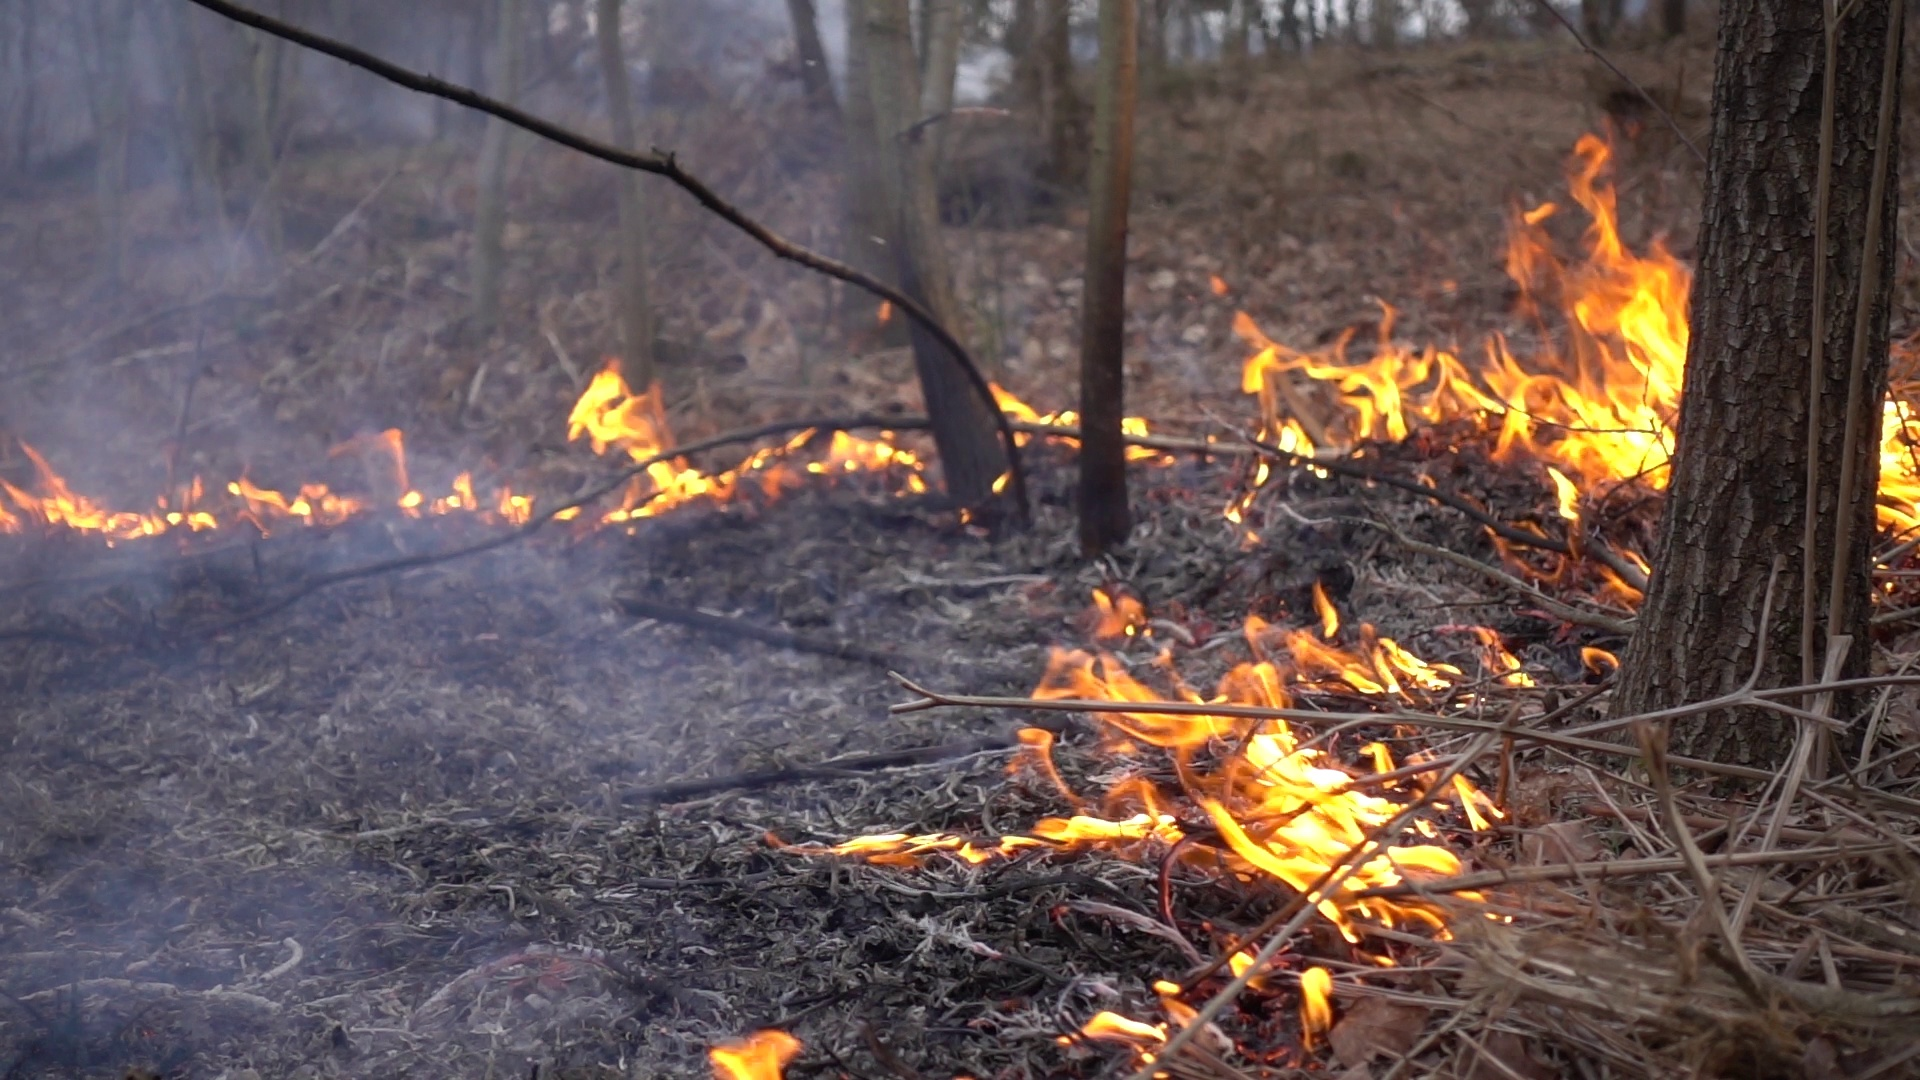fire: (915, 578, 1499, 1043), (1232, 189, 1689, 502), (568, 368, 931, 526), (1, 443, 214, 541), (222, 472, 353, 535), (431, 469, 529, 529), (1880, 392, 1920, 533), (1125, 409, 1149, 465)
